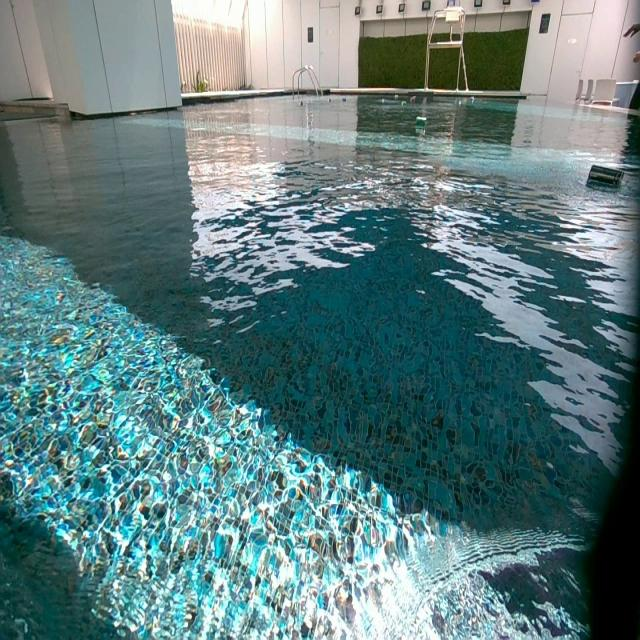Cans: (590, 167, 625, 191), (416, 116, 428, 128), (411, 96, 417, 104), (458, 100, 463, 108), (298, 100, 303, 107), (342, 97, 347, 103), (394, 95, 398, 102), (327, 98, 332, 103), (402, 102, 408, 106), (470, 97, 475, 101), (381, 98, 385, 103)
